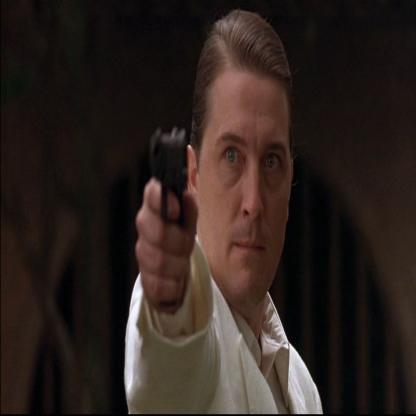gun: (139, 124, 203, 232)
